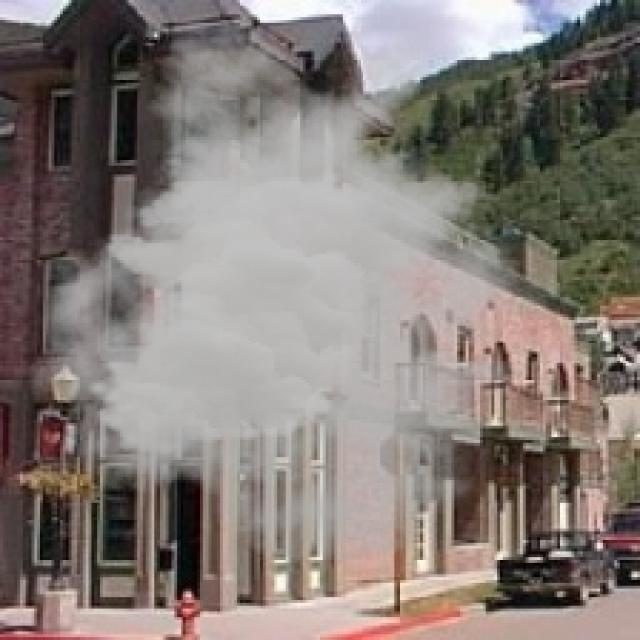Smoke: (25, 17, 578, 566)
